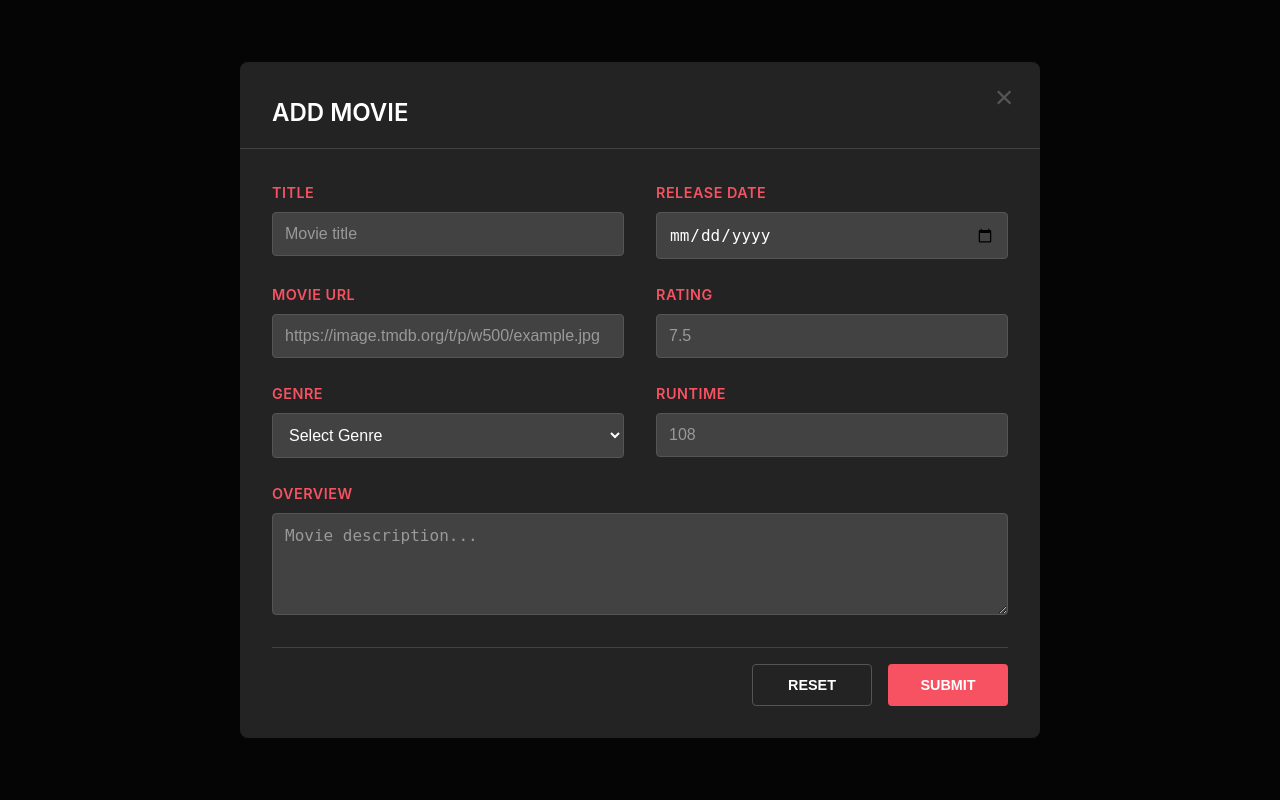
Scenario: AddMovieModal Component › clears errors when user starts typing
Click the button "SUBMIT" at (948, 685), box [888,664,1008,706]
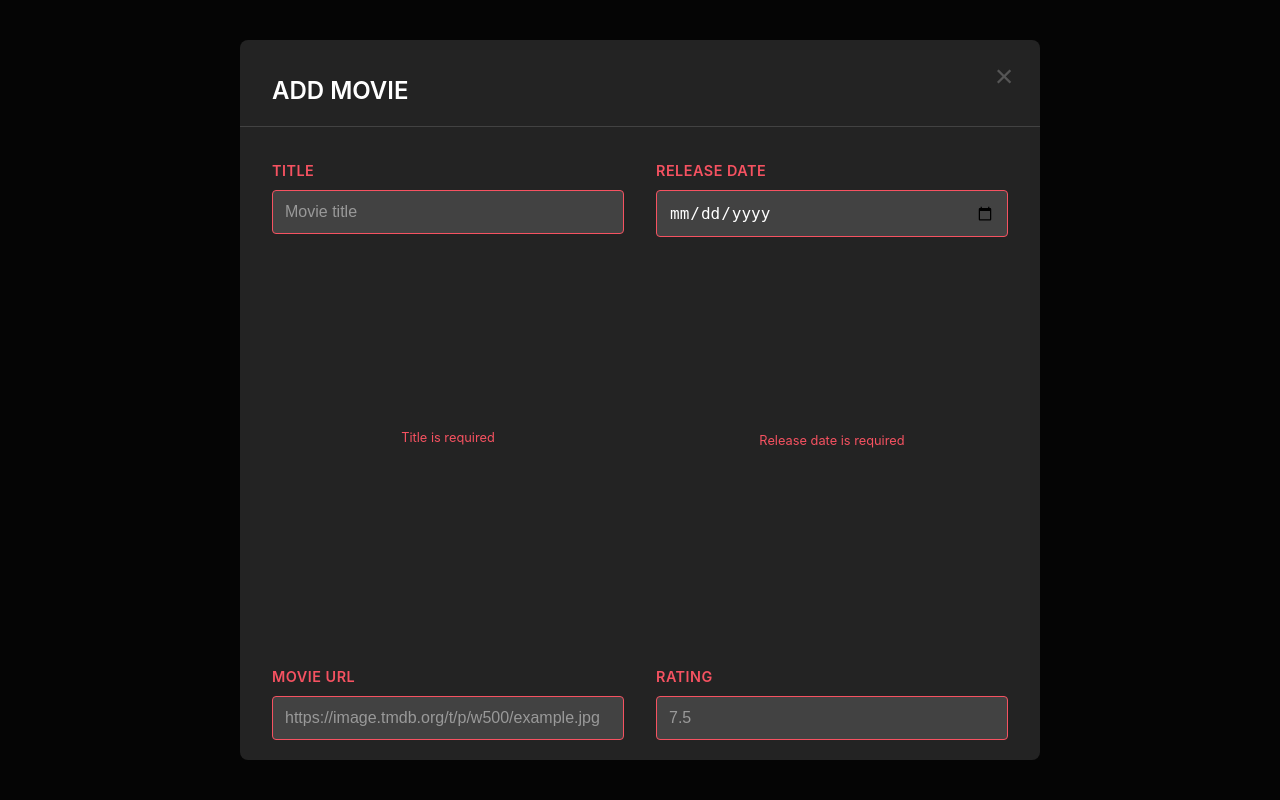
Expected: the text "Title is required" is shown, [401,430,495,445]
Type "T" into the field labelled "TITLE" at (448, 212), box [272,190,624,234]
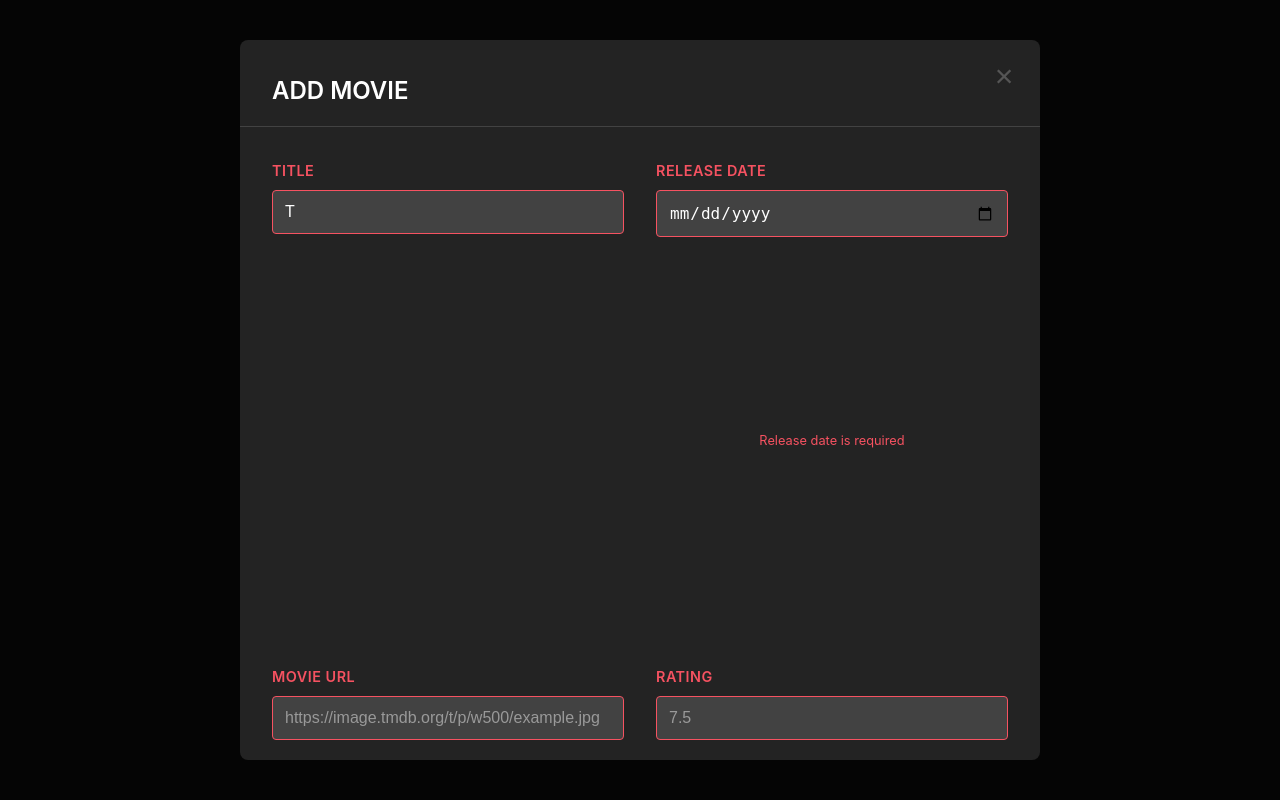
Expected: the text "Title is required" is gone
